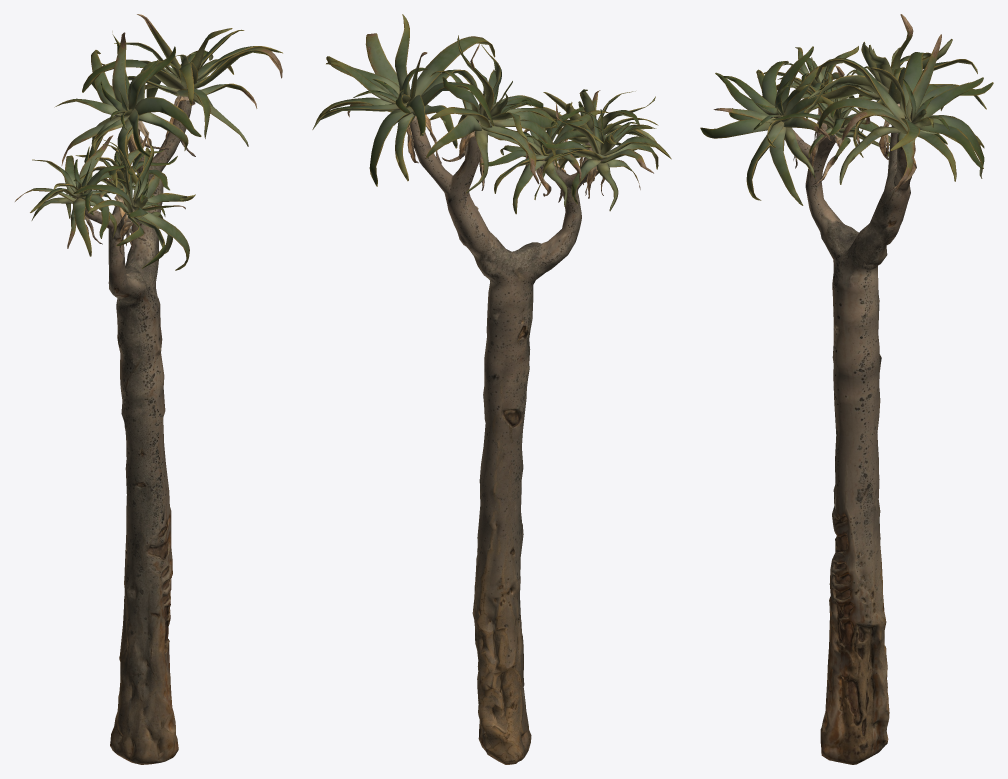
The model's file is quiver_tree_01.gltf.
3 views of the same model, side by side, from view 1: azimuth 30°, elevation 25°; view 2: azimuth 150°, elevation 25°; view 3: azimuth 270°, elevation 25° (orthographic). The views are drawn at different scales.
Bounding box in the file's own units: 1.18 × 2.71 × 0.9674.
Materials: 2 (2 with a texture image).
